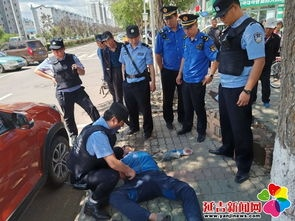falling: (109, 139, 214, 221)
